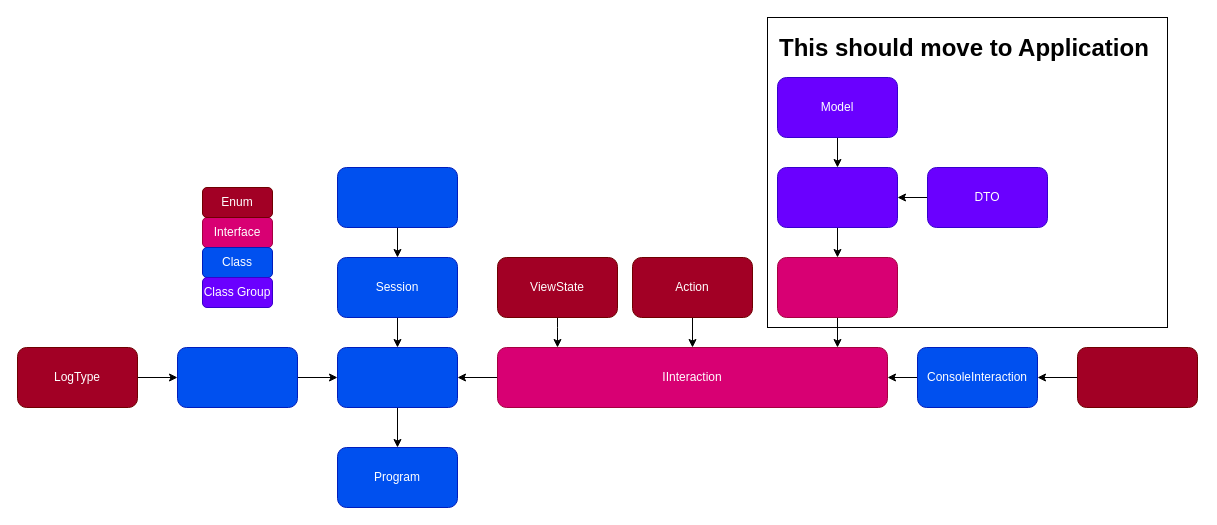
Image size: 1217x525. Some labels were removed from this diagram. Each missing label, with the centre of its shape:
Application: point 397,377
ConsoleNavigareAction: point 1137,377
Data: point 837,197
IData: point 837,287
Log: point 237,377
User: point 397,197
